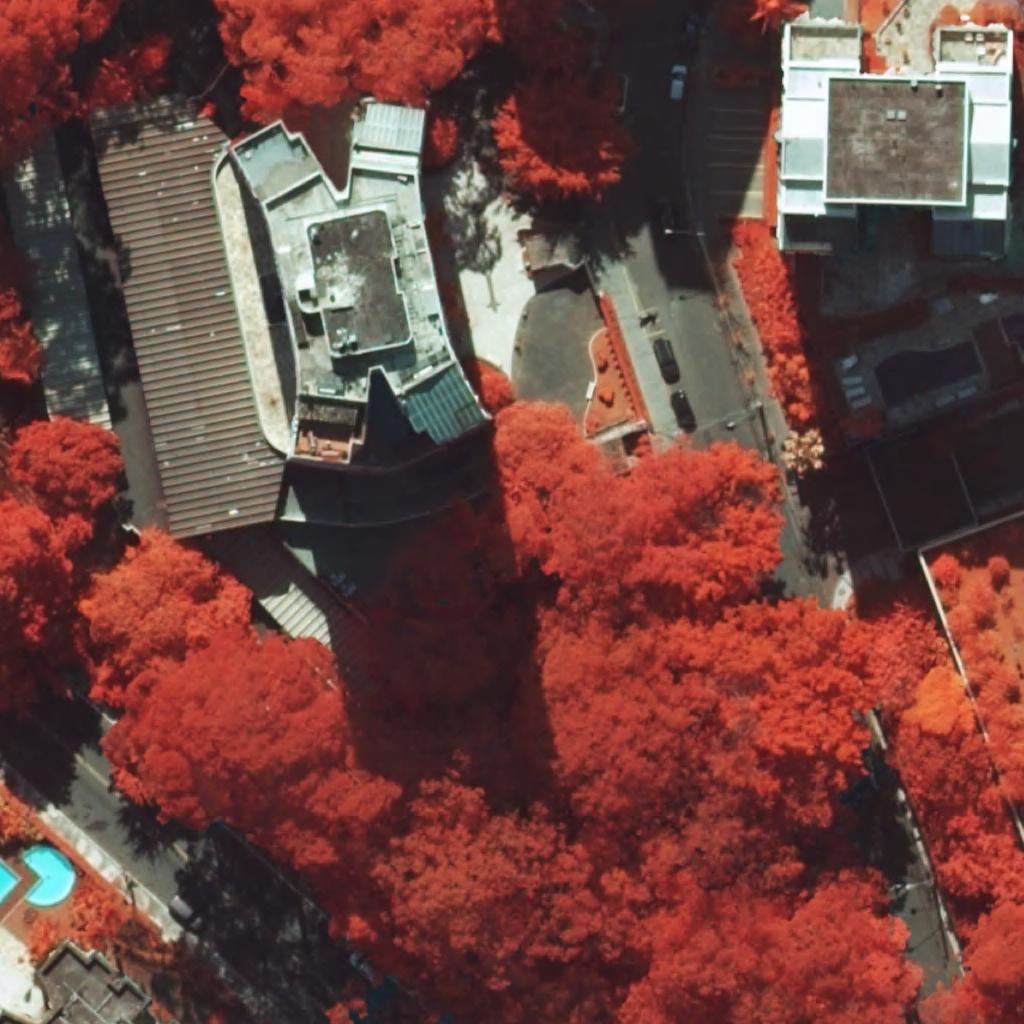pool: (872, 341, 983, 408), (22, 846, 74, 902), (1001, 314, 1024, 353)
